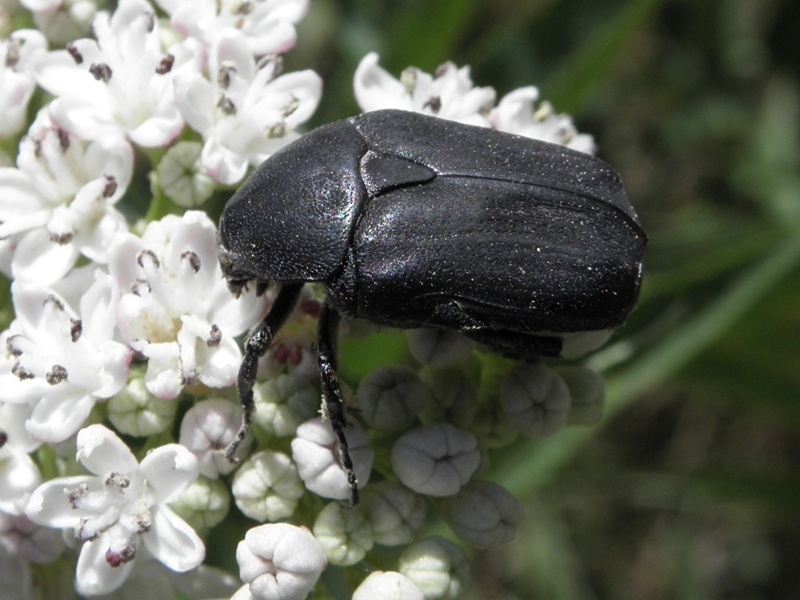Protaetia_morio_morio: (211, 96, 659, 503)
